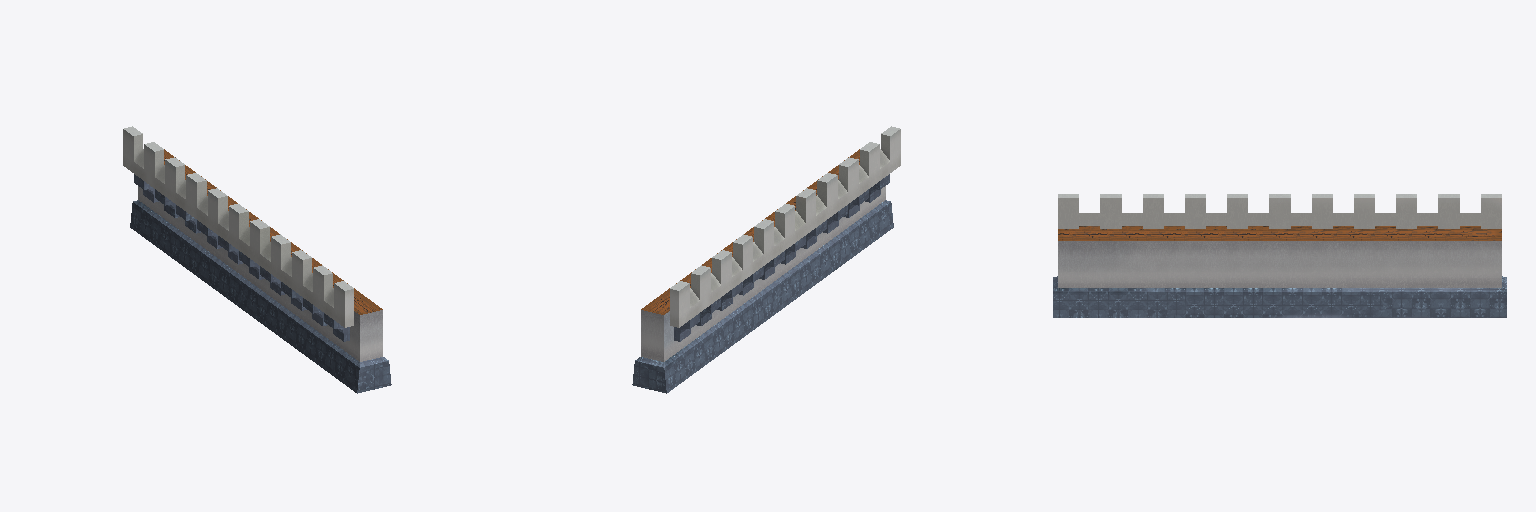
The picture shows the model from 3 angles: view 1: azimuth 30°, elevation 25°; view 2: azimuth 150°, elevation 25°; view 3: azimuth 270°, elevation 25°; orthographic projection.
Visible parts, largest first — view 1: Wall_Cube; view 2: Wall_Cube; view 3: Wall_Cube.
Boxes of the visible parts, x1,y1,x2,y2 form: Wall_Cube: [123, 126, 391, 393]; Wall_Cube: [632, 126, 900, 393]; Wall_Cube: [1053, 194, 1506, 317].
Bounding box in the file's own units: 1.96 × 4.37 × 17.44.
Materials: 1 (1 with a texture image).